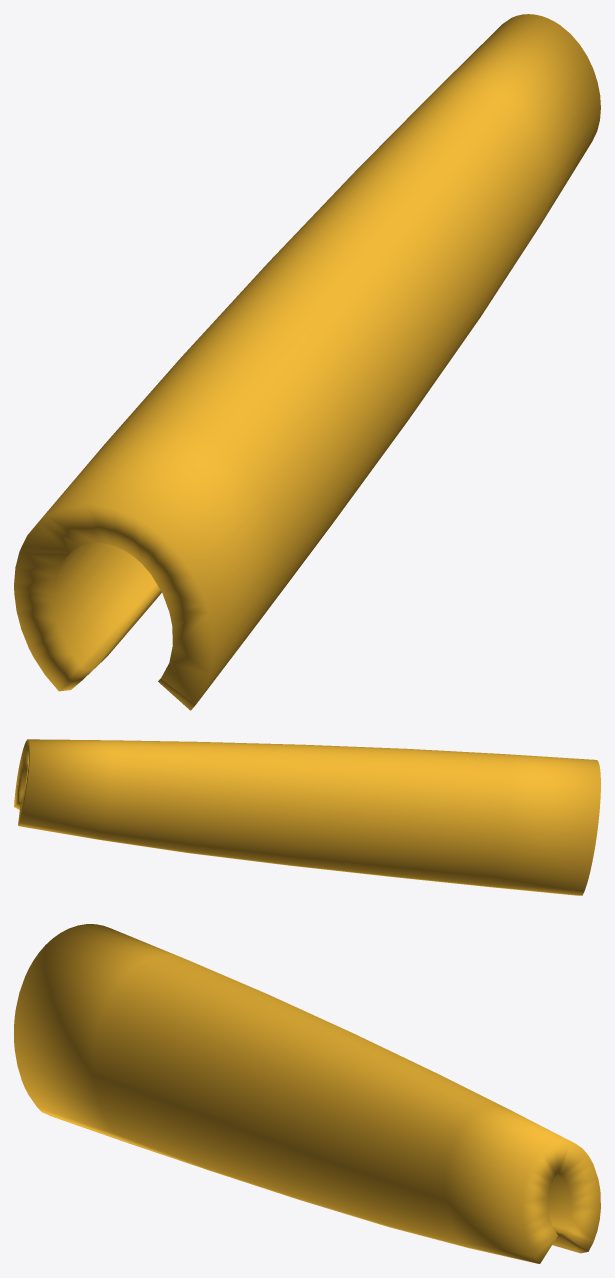
Rendered from nervoso-auditory-tube-l.glb.
3 views of the same model, one above another, from view 1: azimuth 30°, elevation 25°; view 2: azimuth 150°, elevation 25°; view 3: azimuth 270°, elevation 25° (orthographic). The views are drawn at different scales.
Visible parts, largest first — view 1: Auditory tube.l; view 2: Auditory tube.l; view 3: Auditory tube.l.
Boxes of the visible parts, x1,y1,x2,y2 form: Auditory tube.l: (14, 14, 600, 710); Auditory tube.l: (14, 739, 600, 895); Auditory tube.l: (14, 924, 600, 1263).
Size of the model in its own units: 0.0215 by 0.00746 by 0.0169.
